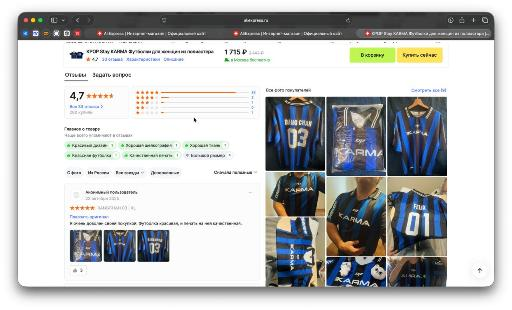aliexpress: (19, 37, 487, 288)
